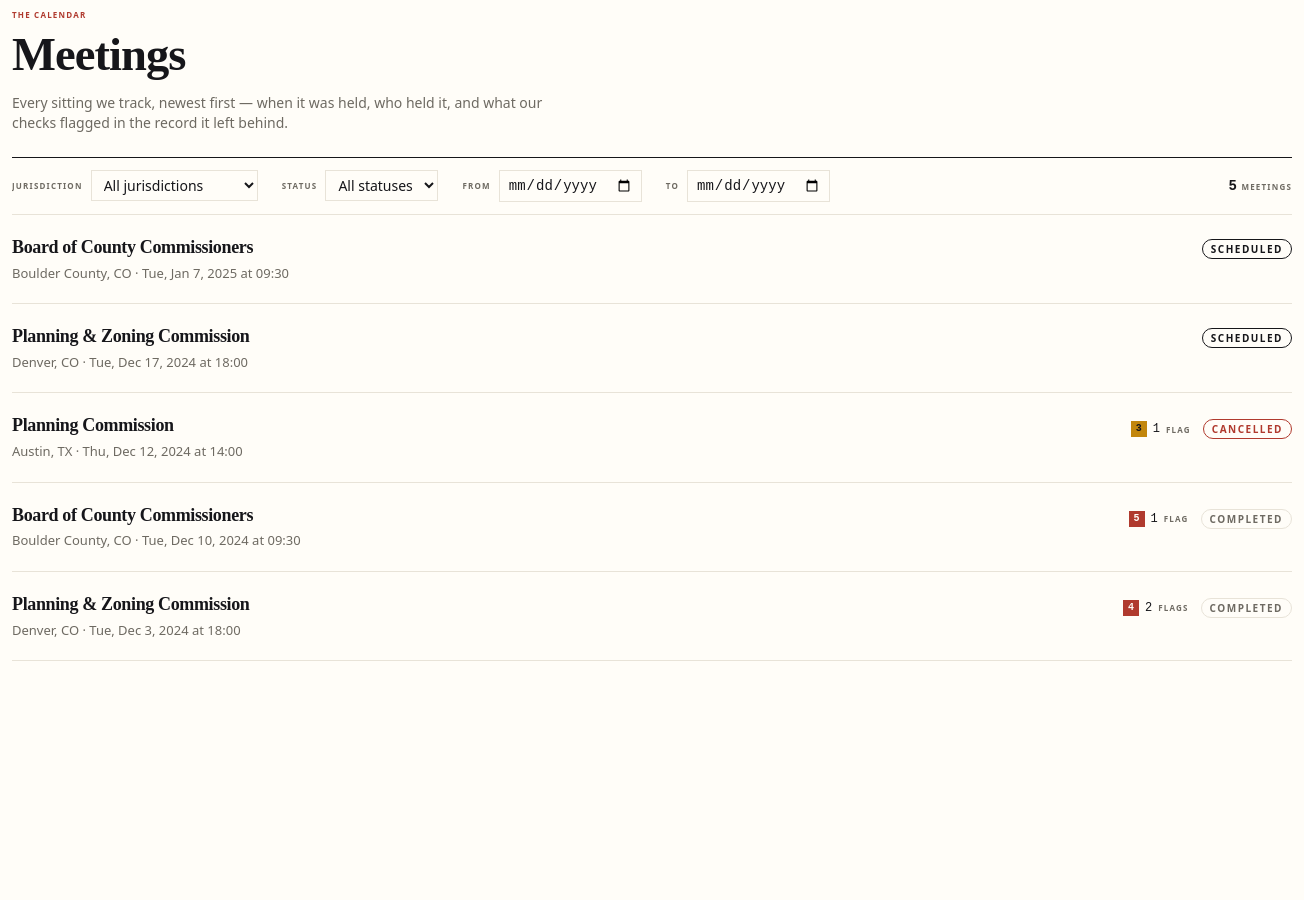
MeetingsPage › clears every filter from the strap
Expected: the element named "Planning & Zoning Commission, Tue, Dec 3, 2024" is shown, [12,572,1292,661]
Select "Cancelled" in the dropdown labelled "Status" at (382, 186), box [325,170,438,201]
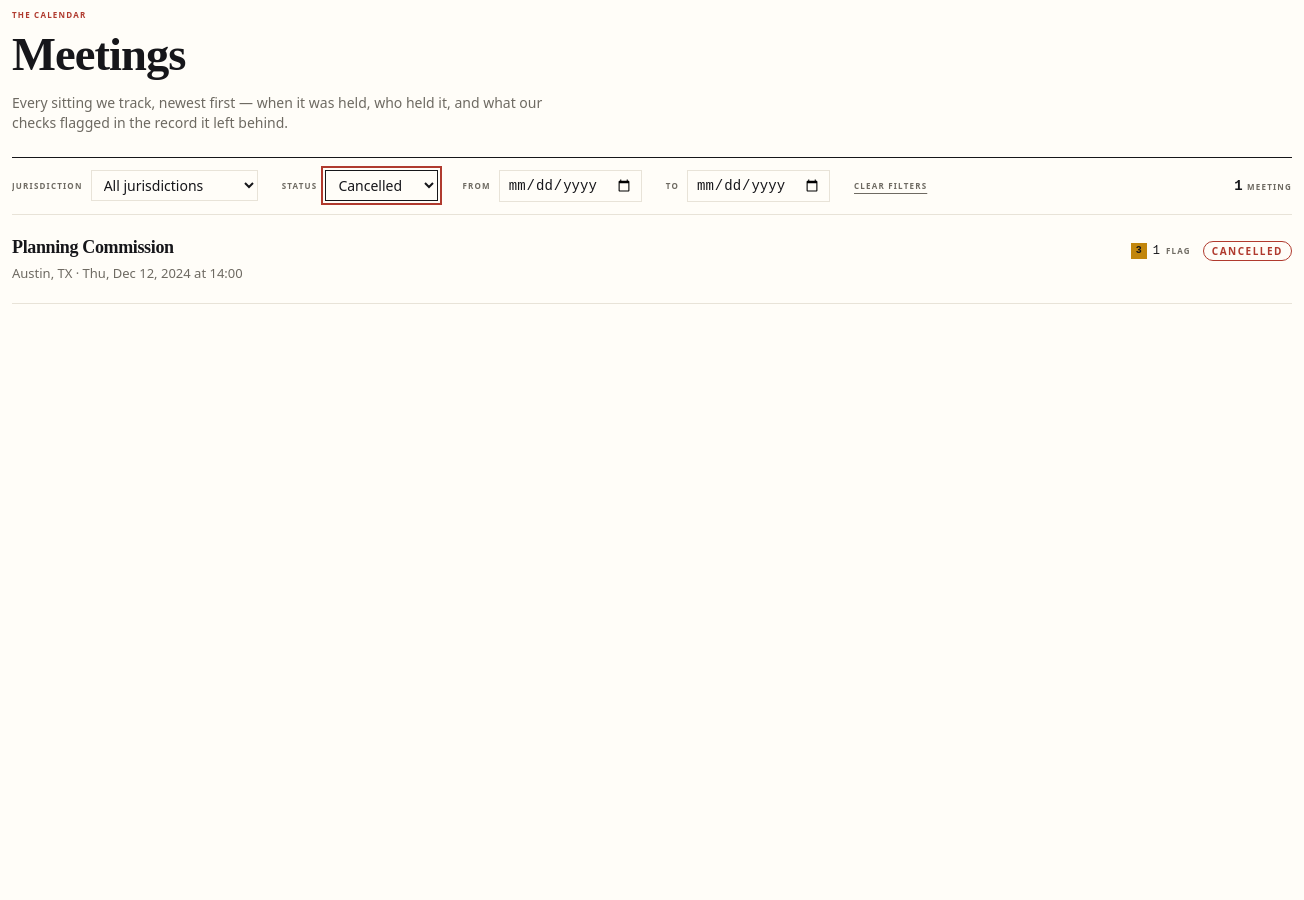
Expected: the element named "Planning Commission, Thu, Dec 12, 2024" is shown, [12,215,1292,304]
Click the button "Clear filters" at (891, 186), box [854,180,927,192]
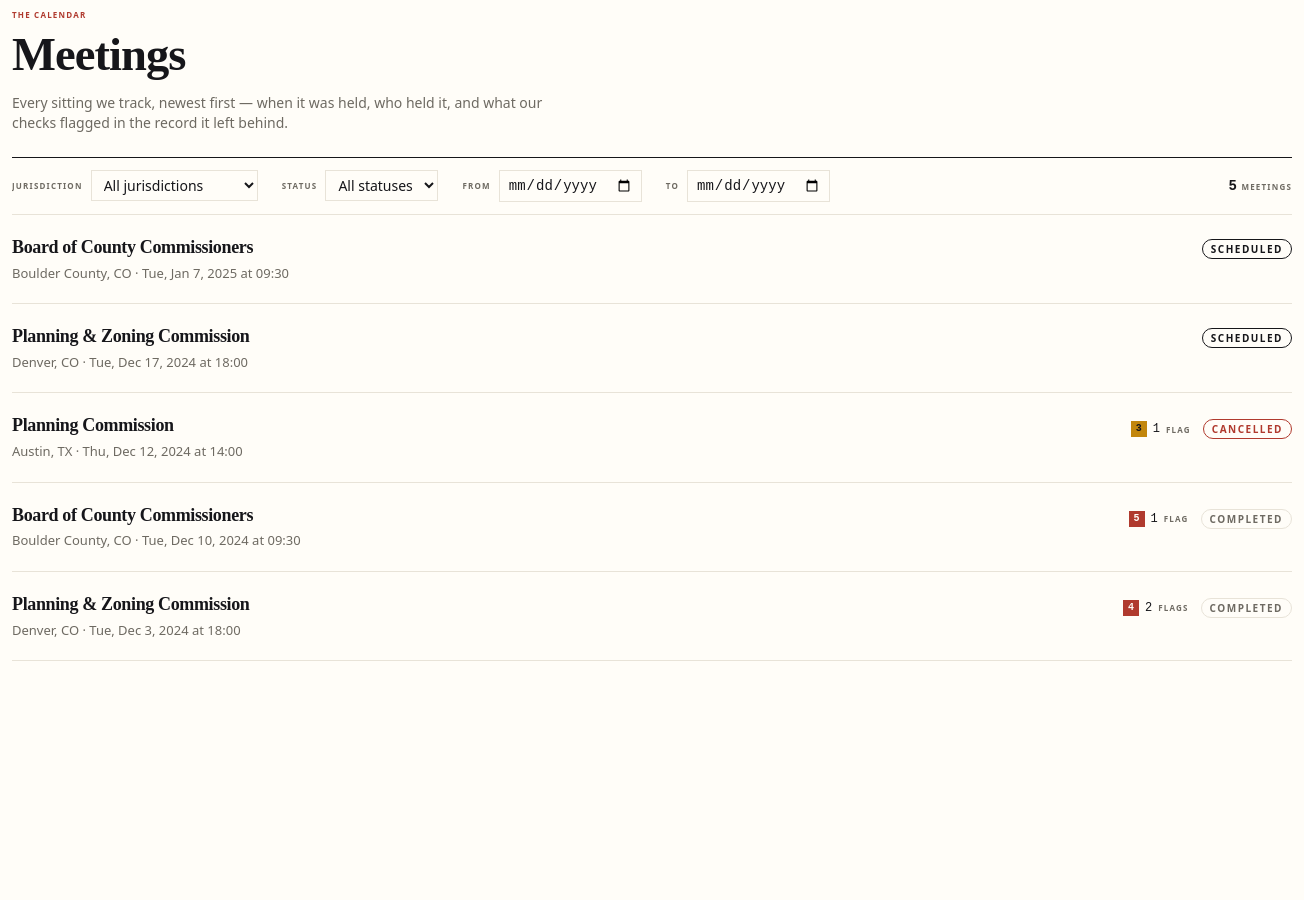
Now the element named "Planning & Zoning Commission, Tue, Dec 3, 2024" is shown, box [12,572,1292,661]
